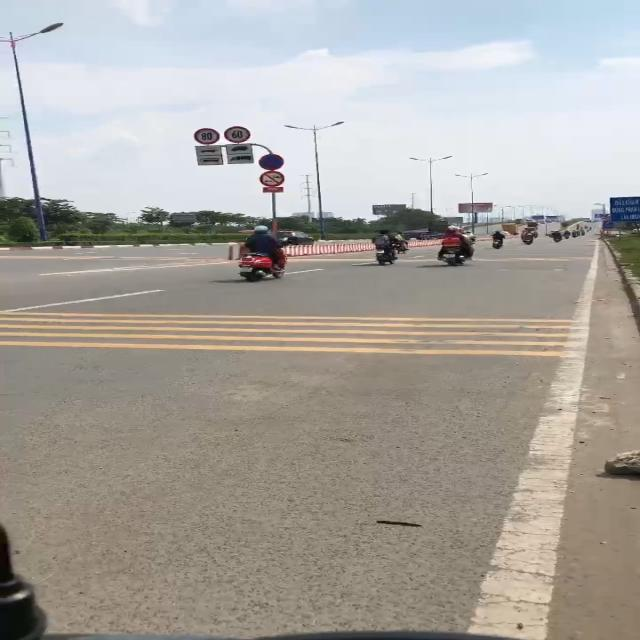Bien bao toc do toi da cho phep: (188, 126, 222, 146), (222, 125, 254, 144)
